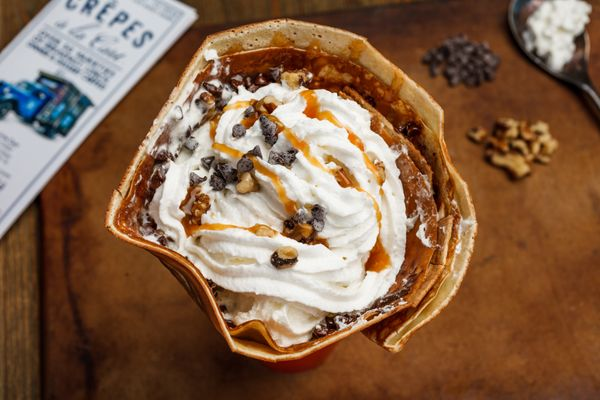curry: (14, 0, 600, 391)
